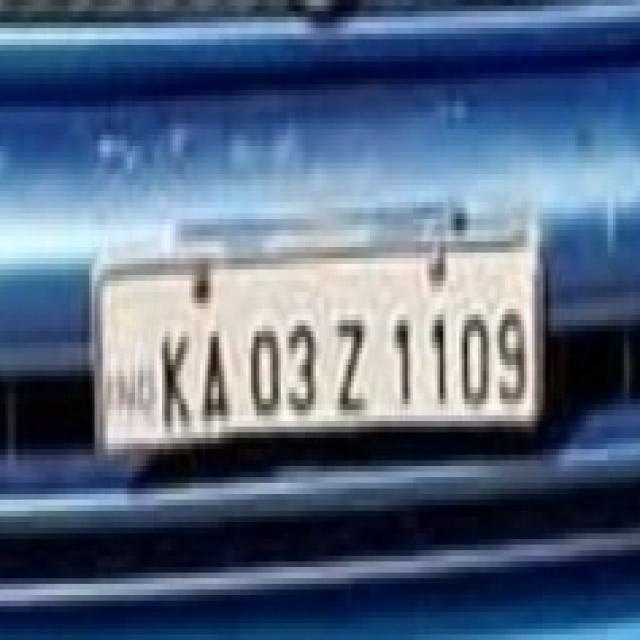0: (245, 319, 283, 419), (458, 302, 492, 412)
1: (428, 300, 452, 418), (390, 306, 414, 411)
3: (284, 313, 318, 417)
9: (493, 298, 528, 422)
A: (195, 318, 232, 430)
K: (157, 319, 192, 434)
Z: (332, 302, 368, 419)
